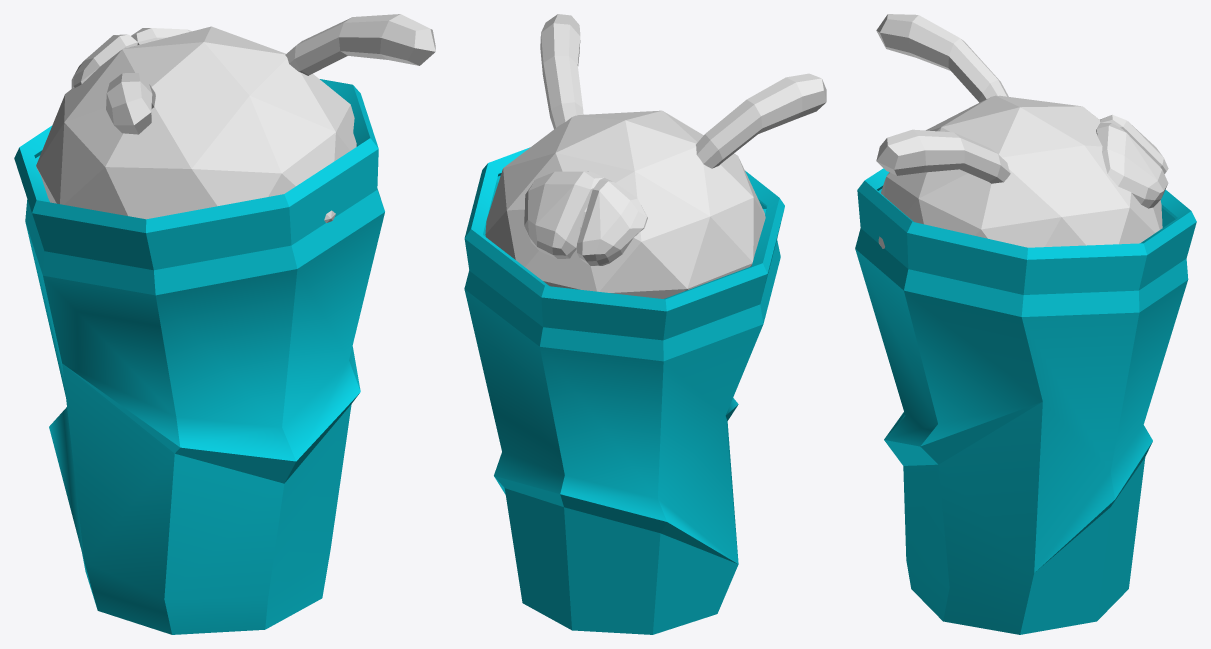
Rendered from SM_Drink_Teeth.fbx.
The picture shows the model from 3 angles, left to right: view 1: azimuth 30°, elevation 25°; view 2: azimuth 150°, elevation 25°; view 3: azimuth 270°, elevation 25°; orthographic projection. The views are drawn at different scales.
Visible parts, largest first — view 1: SM_Glass, SM_GreenTopping; view 2: SM_Glass, SM_GreenTopping; view 3: SM_Glass, SM_GreenTopping.
Part boxes in pixels (x1,y1,x2,y2): SM_Glass: [14, 79, 384, 634]; SM_GreenTopping: [36, 14, 435, 222]; SM_Glass: [464, 147, 784, 634]; SM_GreenTopping: [485, 14, 826, 298]; SM_Glass: [855, 168, 1196, 634]; SM_GreenTopping: [876, 14, 1168, 248].
Bounding box in the file's own units: 21.79 × 36.24 × 21.86.
